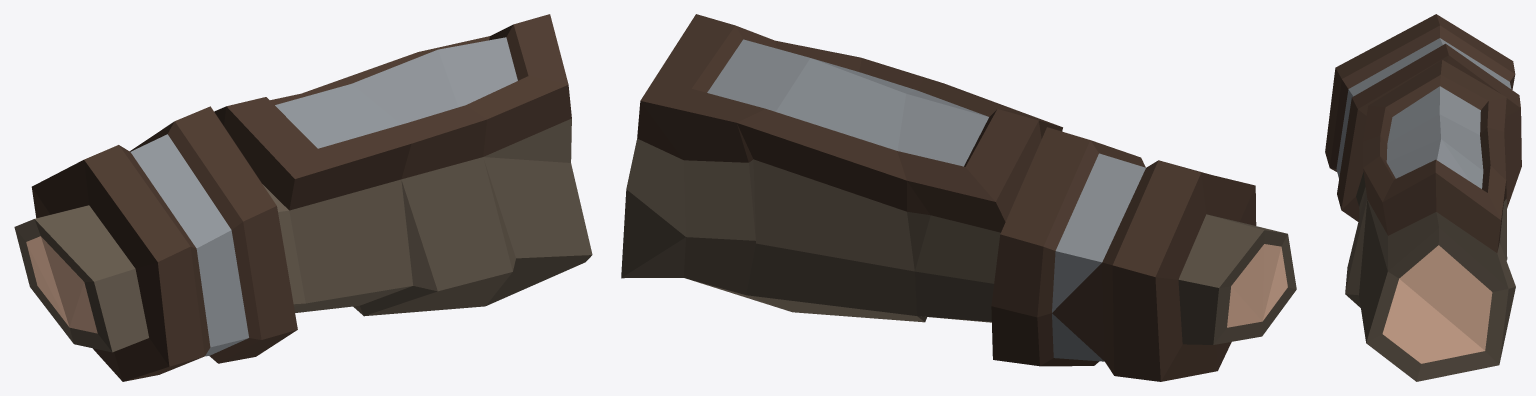
Rendered from Chr_ArmLowerRight_Female_10_Static.fbx.
The picture shows the model from 3 angles, left to right: view 1: azimuth 30°, elevation 25°; view 2: azimuth 150°, elevation 25°; view 3: azimuth 270°, elevation 25°; orthographic projection. The views are drawn at different scales.
Visible parts, largest first — view 1: Chr_ArmLowerRight_Female_10_Static; view 2: Chr_ArmLowerRight_Female_10_Static; view 3: Chr_ArmLowerRight_Female_10_Static.
Part boxes in pixels (<box>): Chr_ArmLowerRight_Female_10_Static: <box>14,14,592,381</box>; Chr_ArmLowerRight_Female_10_Static: <box>621,14,1296,381</box>; Chr_ArmLowerRight_Female_10_Static: <box>1325,14,1521,381</box>.
Bounding box in the file's own units: 0.2944 × 0.1356 × 0.1122.
